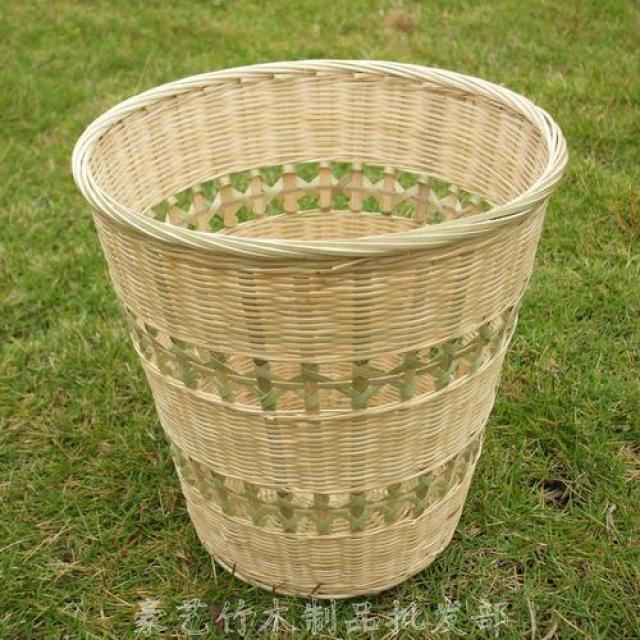dustbin: (61, 52, 575, 599)
